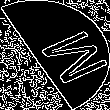M_SW: (13, 22, 97, 88)
